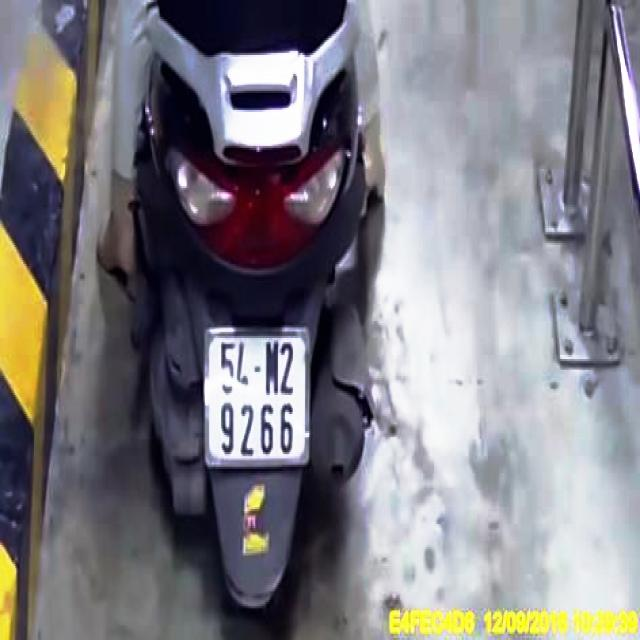license_plate: (206, 333, 306, 458)
